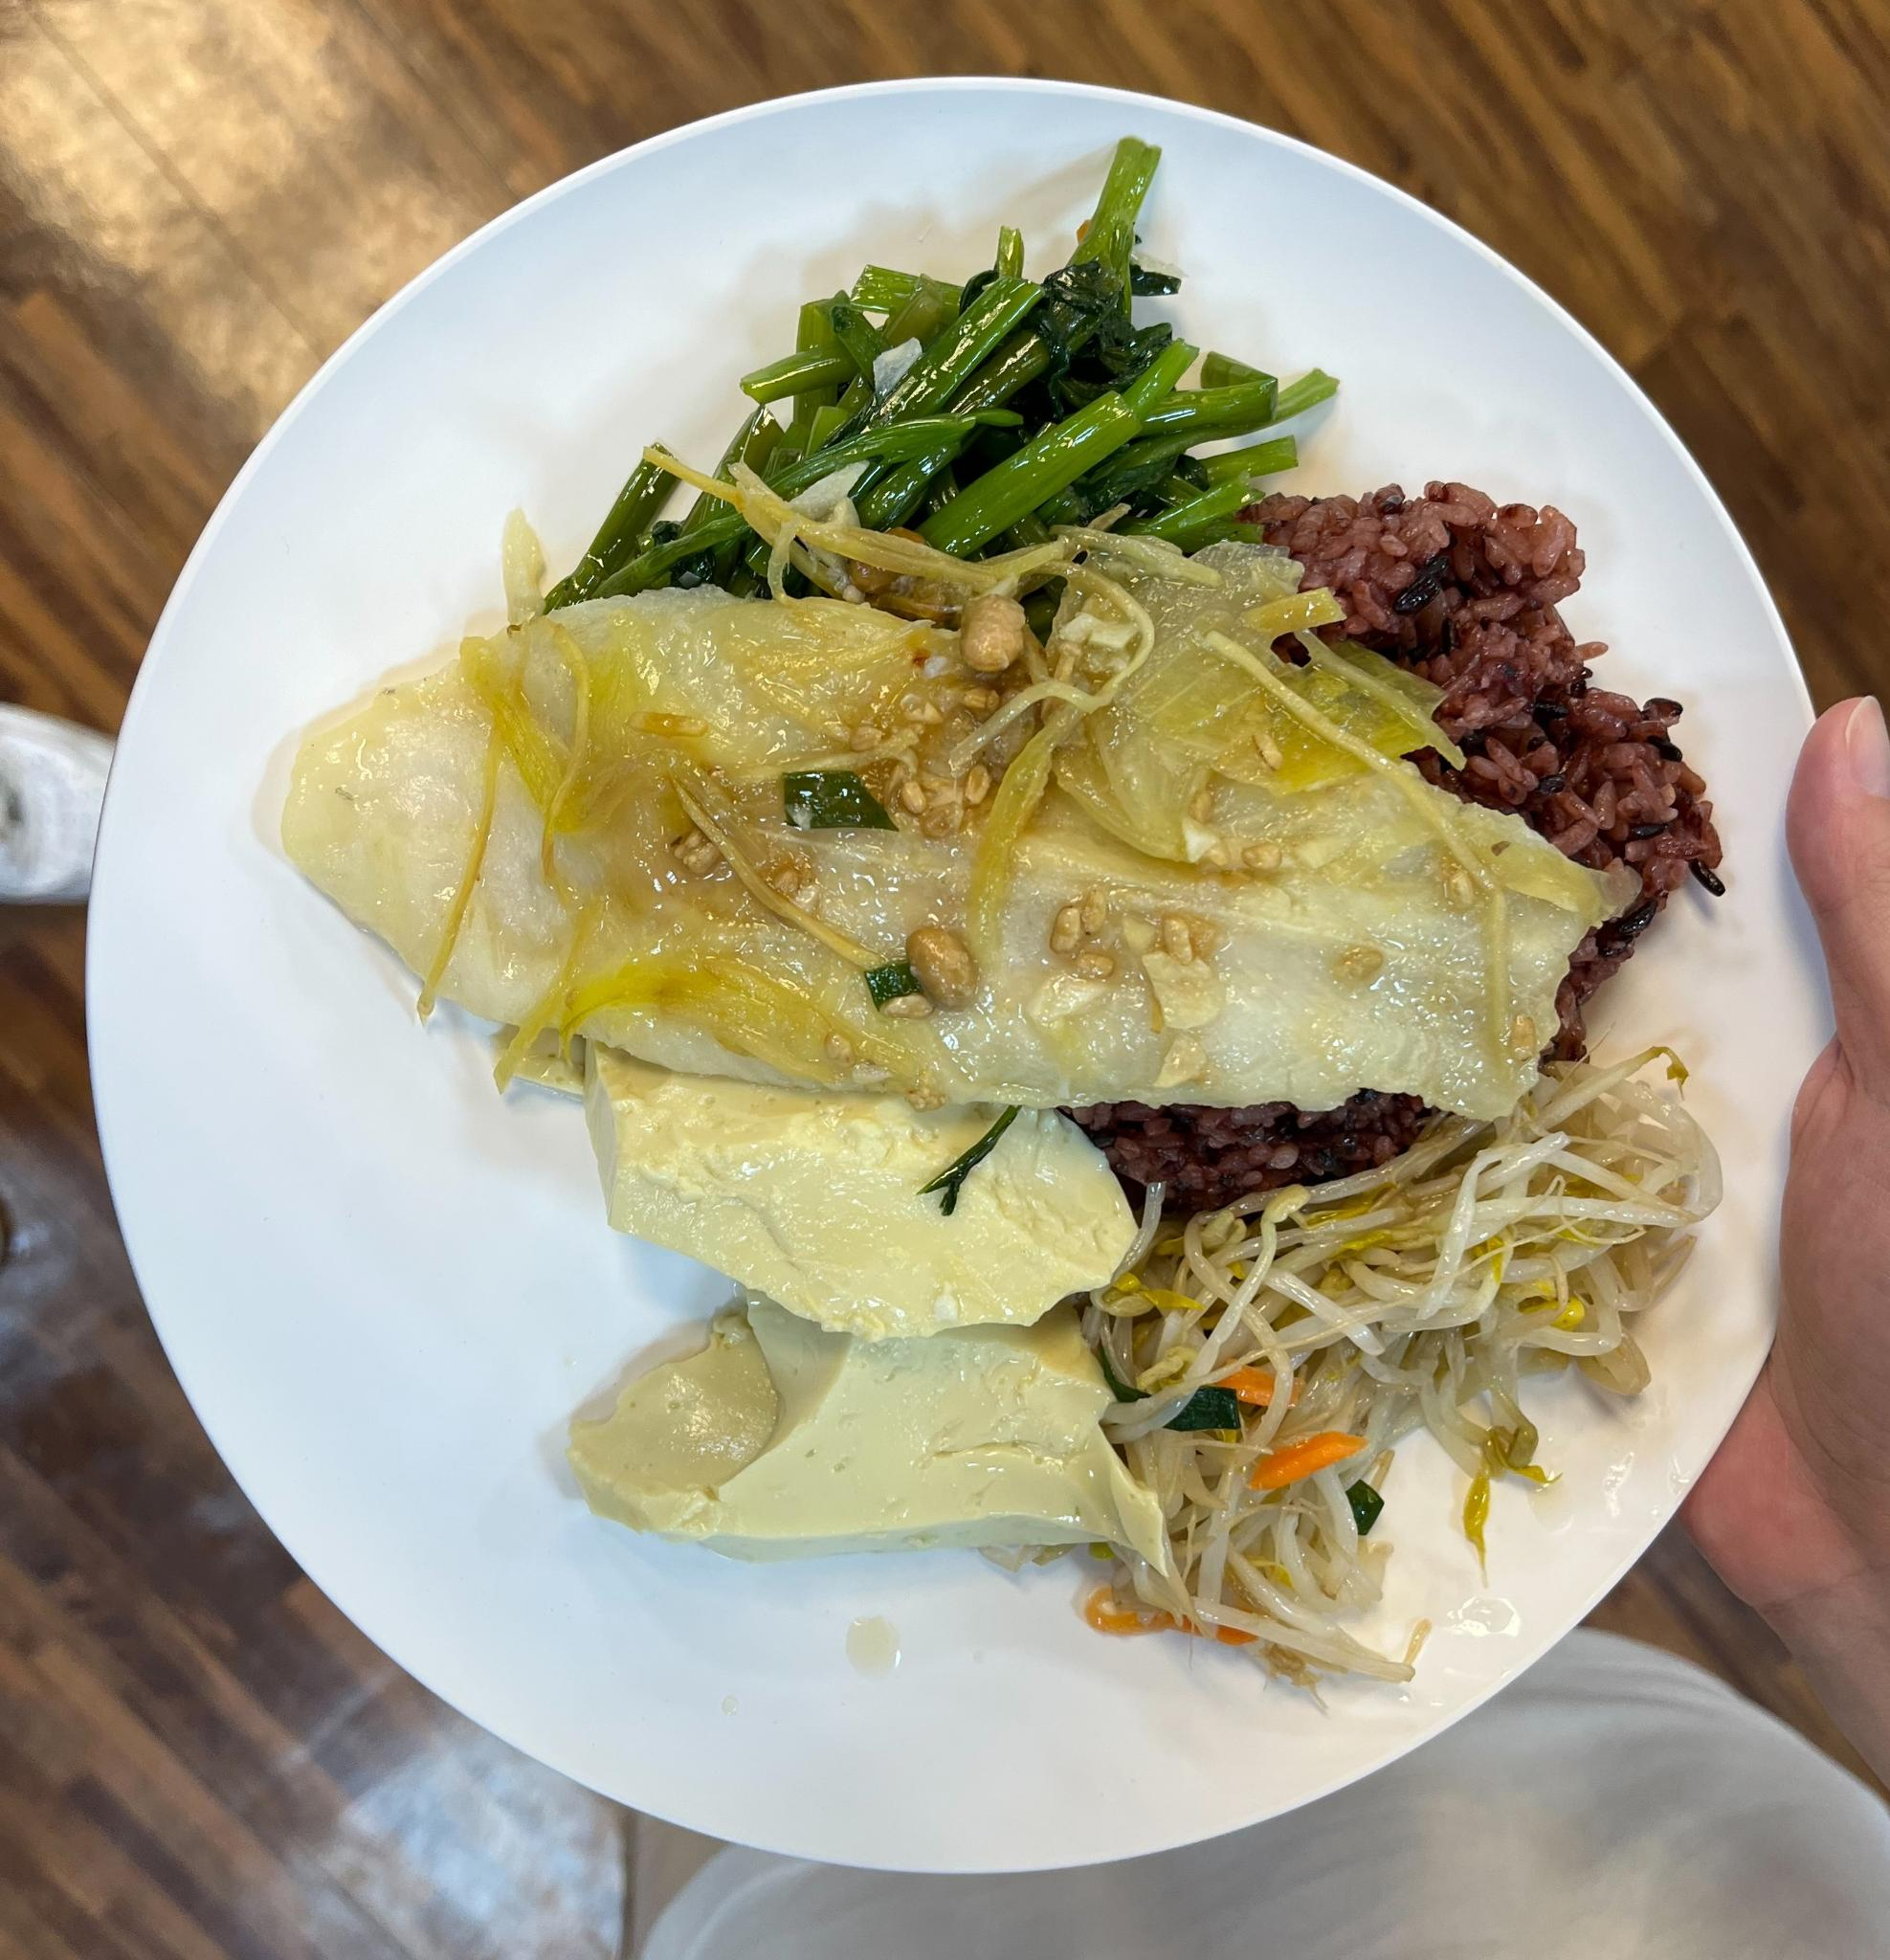big fried chicken leg: (68, 58, 1864, 1883)
braised fish: (1020, 476, 1724, 1207)
braised fish fillet: (1064, 1041, 1753, 1694), (514, 201, 1330, 605), (530, 1062, 1176, 1571)
braised pork ribs: (266, 537, 1582, 1134)
